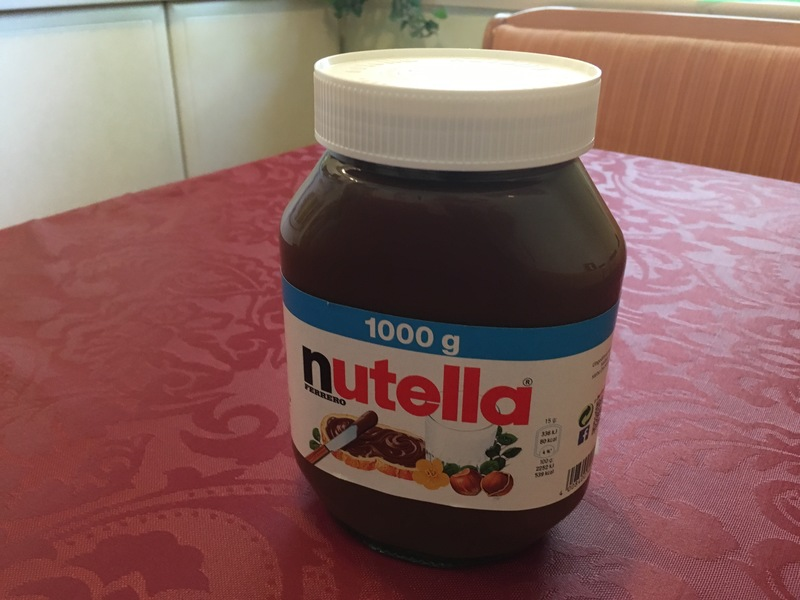nutella: (280, 46, 627, 570)
